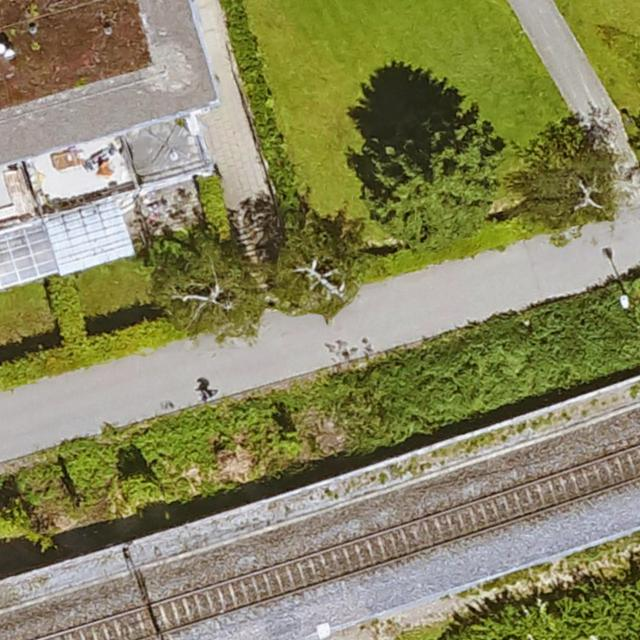tree: (367, 128, 498, 242), (151, 233, 267, 339), (509, 121, 615, 225), (274, 221, 359, 318)
